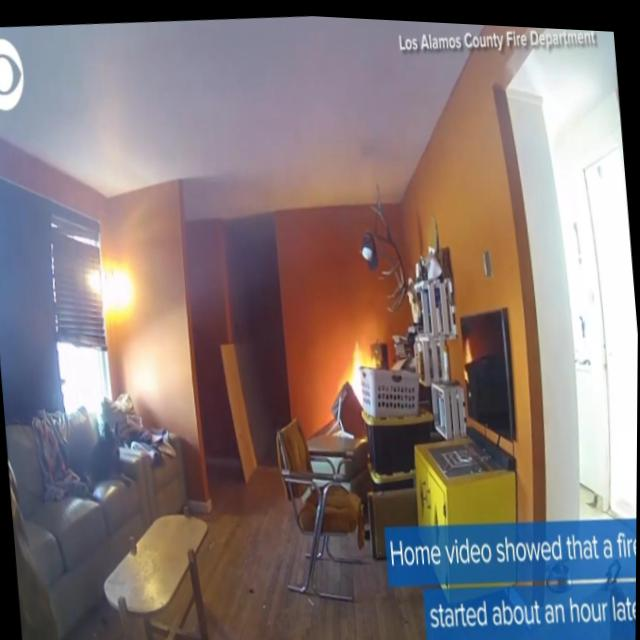fire: (338, 329, 375, 410)
